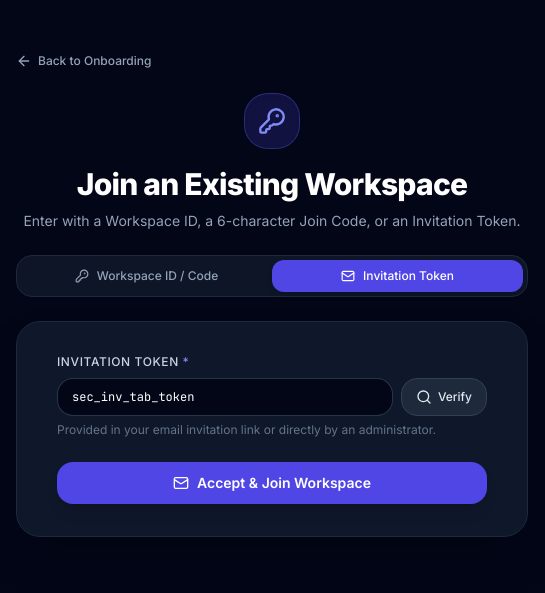
it: WS-A8: Create & Join Workspace Workflows › Invitation Acceptance Workflows › 12. JoinWorkspacePage Invitation Tab accepts token and activates workspace session
Expected: the field labelled "Invitation Token *" holds "sec_inv_tab_token", [57, 378, 393, 416]
Click the button "Accept & Join Workspace" at [272, 483], box [57, 462, 487, 504]
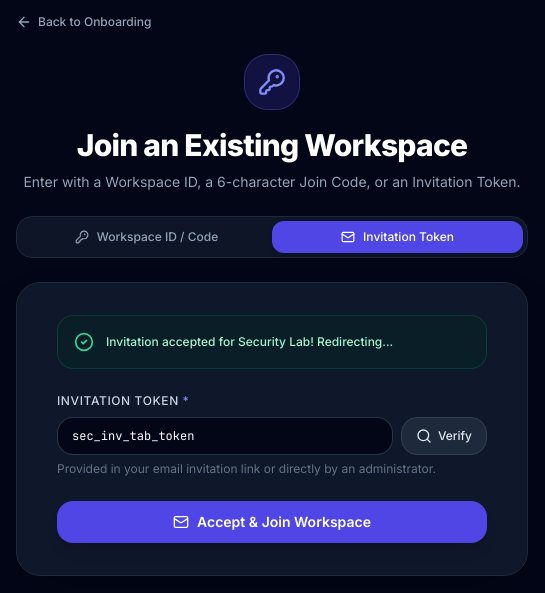
Result: the text "Invitation accepted for Security Lab! Redirecting..." is shown at [106, 334, 393, 350]
